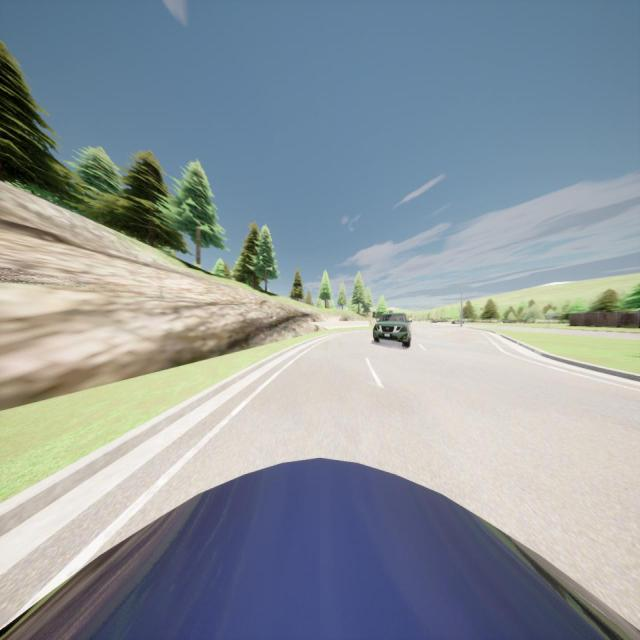Vehicle: (1, 455, 640, 640), (372, 312, 412, 348), (451, 320, 464, 325)
